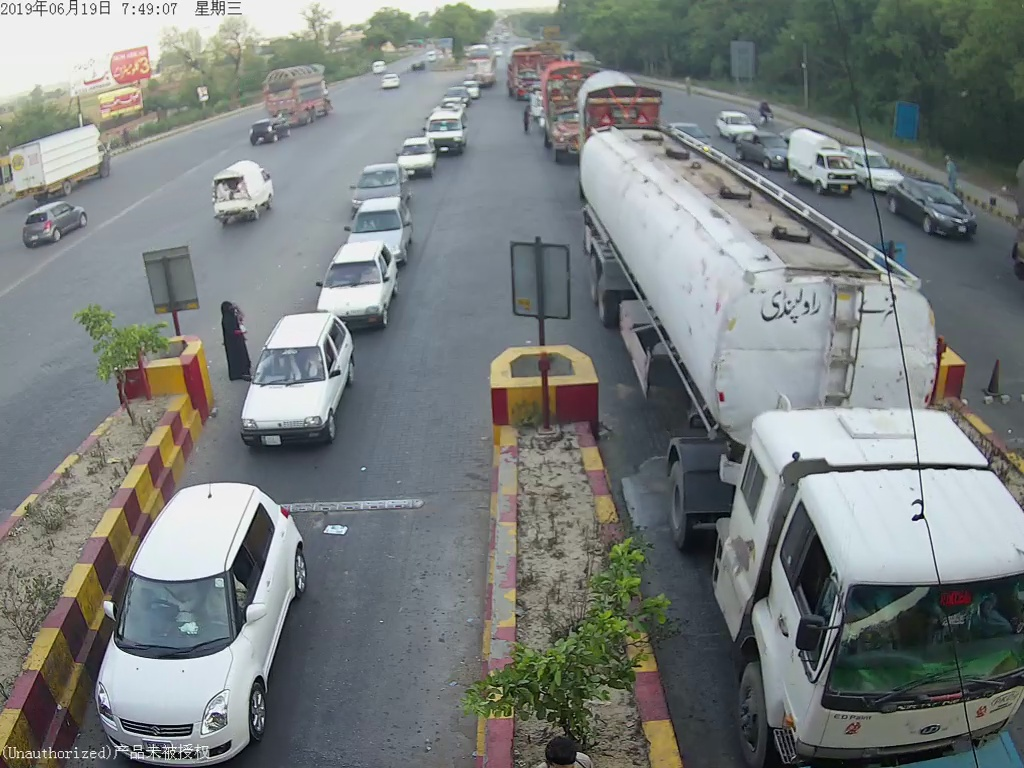Cat-1: (90, 476, 306, 768), (236, 310, 355, 446), (316, 243, 401, 331), (346, 194, 417, 262), (389, 133, 433, 175)
Cat-2: (424, 104, 473, 155)
Cat-4: (533, 53, 589, 158)
Cat-5: (591, 140, 1024, 761)
